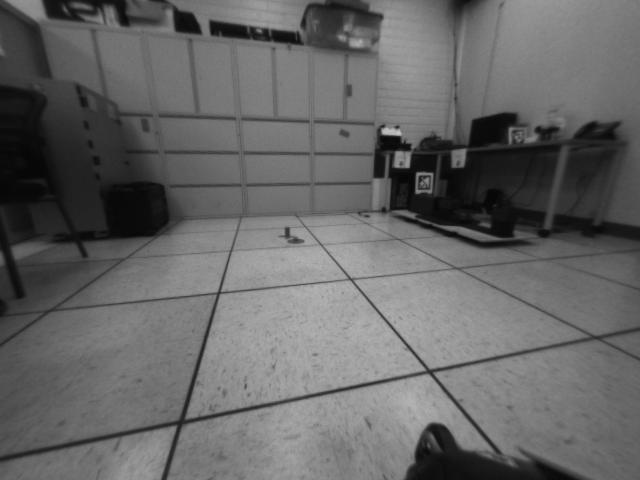X: (279, 226, 297, 239)
